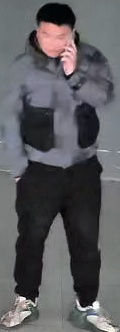phone: (9, 0, 111, 112)
